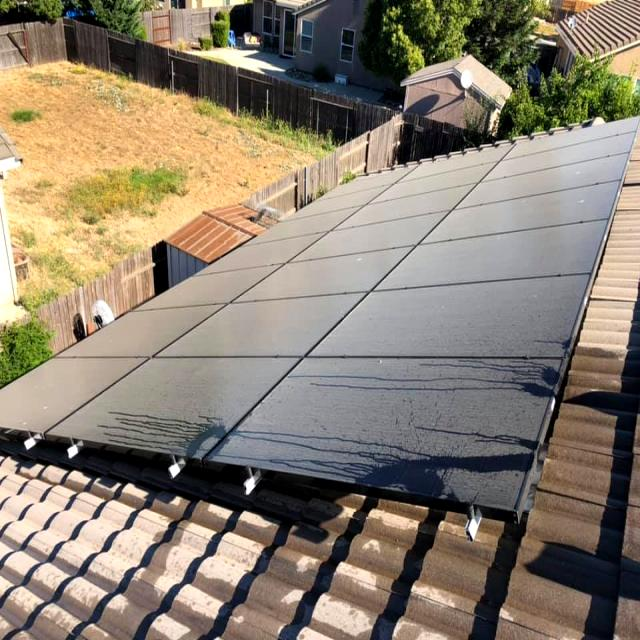dust: (343, 295, 548, 421), (349, 176, 583, 274), (80, 357, 292, 439), (348, 414, 526, 486), (182, 286, 330, 356), (516, 136, 619, 187), (276, 222, 331, 278)
